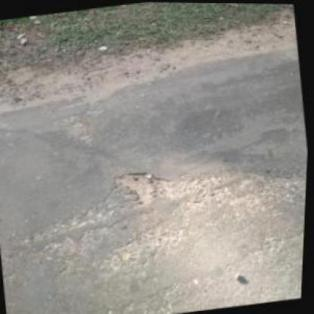Hueco: (112, 167, 165, 213)
